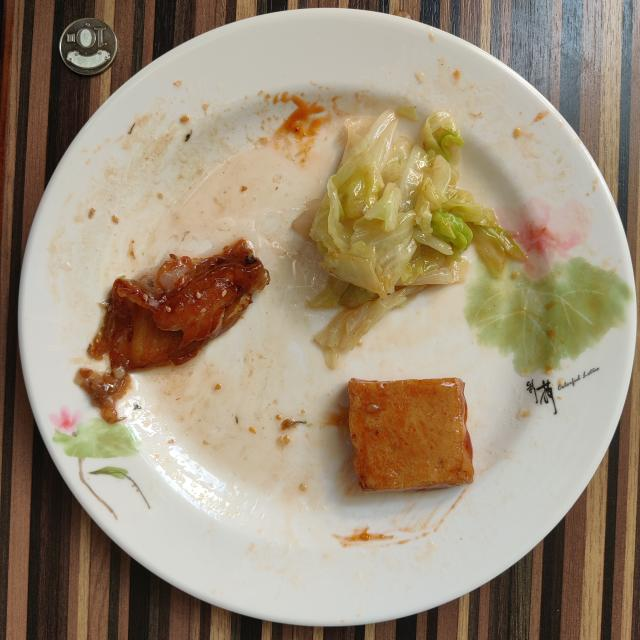Kabayaki sea bream fillet: (75, 239, 270, 422)
cabbage: (292, 109, 526, 368)
coin: (60, 18, 118, 75)
creamy tofu: (349, 378, 474, 491)
